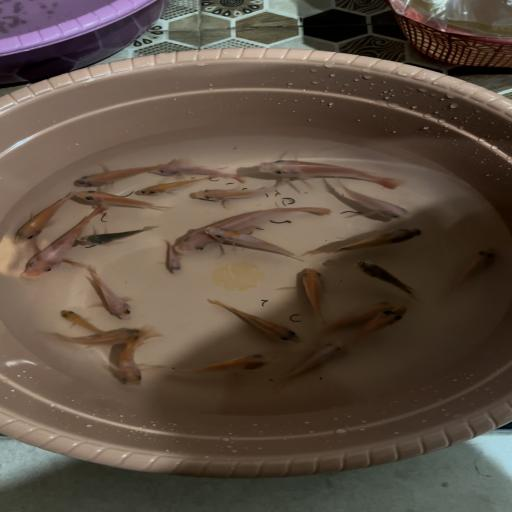nila: (168, 206, 330, 254), (17, 211, 104, 284), (247, 154, 409, 190), (210, 300, 309, 344), (2, 195, 76, 247), (345, 259, 434, 300), (323, 225, 427, 260), (102, 331, 164, 388), (168, 348, 278, 380), (330, 184, 422, 222), (205, 227, 307, 261), (279, 341, 348, 391), (63, 158, 160, 191), (82, 266, 138, 323), (294, 266, 342, 326), (71, 188, 170, 215), (446, 245, 498, 294), (354, 308, 411, 351), (317, 304, 384, 340), (133, 175, 220, 201), (40, 326, 152, 346), (189, 181, 282, 205), (78, 225, 158, 251), (149, 162, 247, 180), (157, 240, 190, 278), (56, 310, 108, 334)
